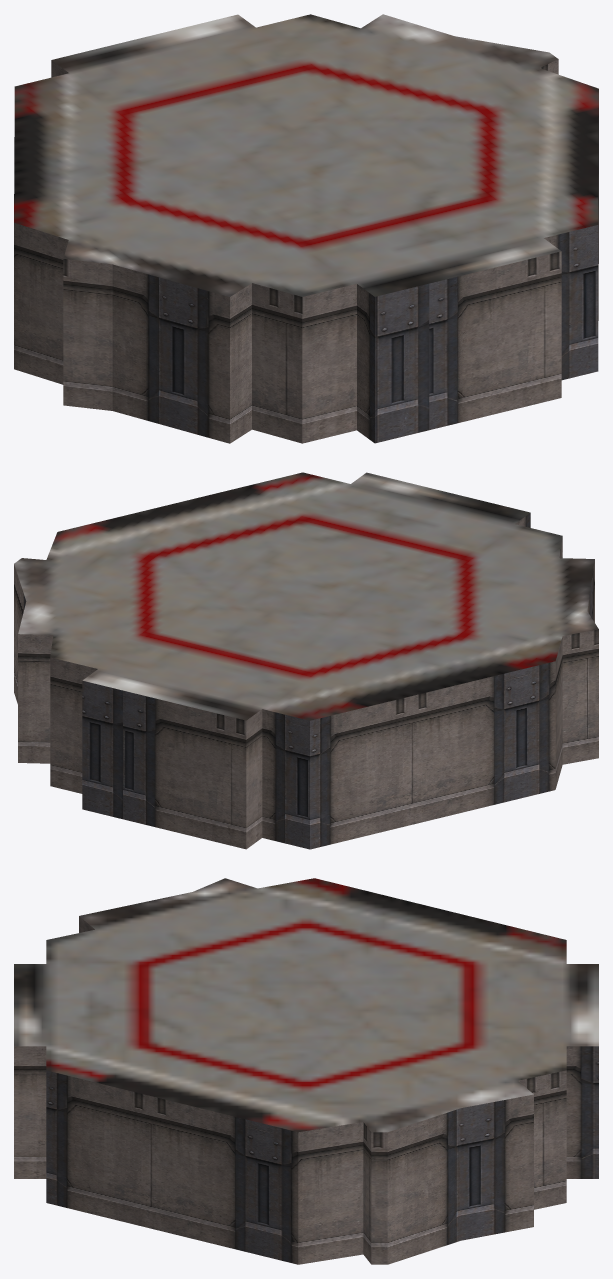
Rendered from bsealed_light_27.glb.
3 views of the same model, one above another, from view 1: azimuth 30°, elevation 25°; view 2: azimuth 150°, elevation 25°; view 3: azimuth 270°, elevation 25° (orthographic). The views are drawn at different scales.
Parts seen in each view (by area): view 1: buildings/saxarba/bsealed_light/bsealed_light_27; view 2: buildings/saxarba/bsealed_light/bsealed_light_27; view 3: buildings/saxarba/bsealed_light/bsealed_light_27.
Boxes of the visible parts, x1,y1,x2,y2 form: buildings/saxarba/bsealed_light/bsealed_light_27: (14,14,598,443); buildings/saxarba/bsealed_light/bsealed_light_27: (14,472,598,849); buildings/saxarba/bsealed_light/bsealed_light_27: (14,878,598,1264).
Size of the model in its own units: 74 by 18 by 72.
